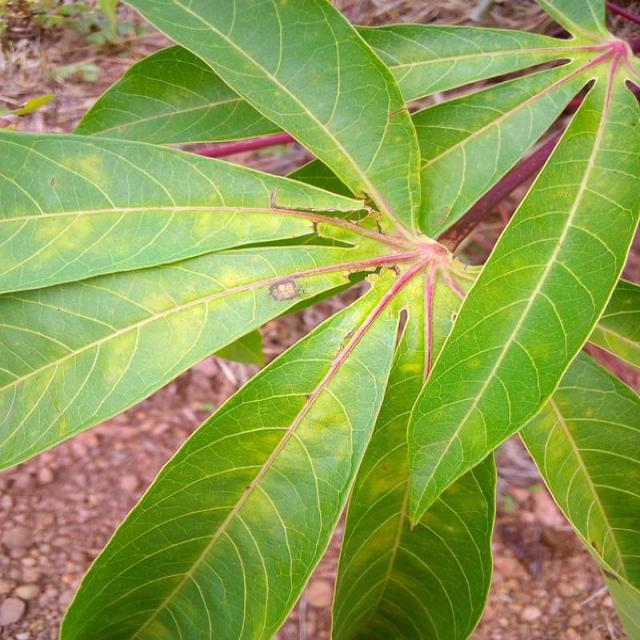cassava leaf: (1, 1, 638, 638), (58, 269, 406, 638), (404, 49, 639, 530), (118, 0, 423, 239)
